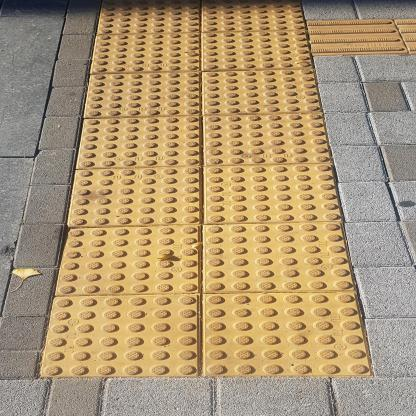podotacti: (26, 1, 416, 383)
